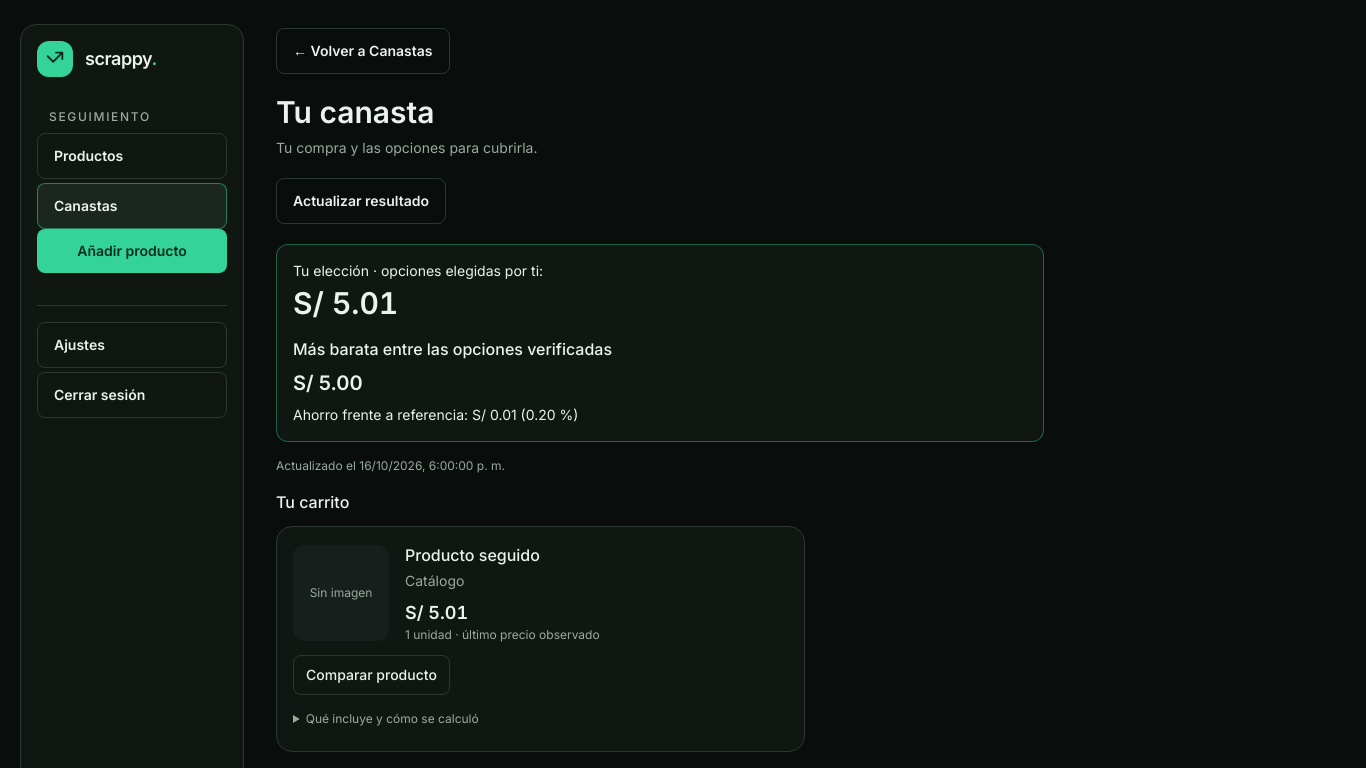
Test case: independent catalog › opens a notice basket directly and removes its destination when leaving the breakdown
Check: the heading "Tu canasta" is shown, box x1=276 y1=94 x2=434 y2=130
Check: the text "Ahorro frente a referencia: S/ 0.01 (0.20 %)" is shown, box x1=293 y1=406 x2=578 y2=423
Click the button "← Volver a Canastas" at (363, 51), box x1=276 y1=28 x2=450 y2=74
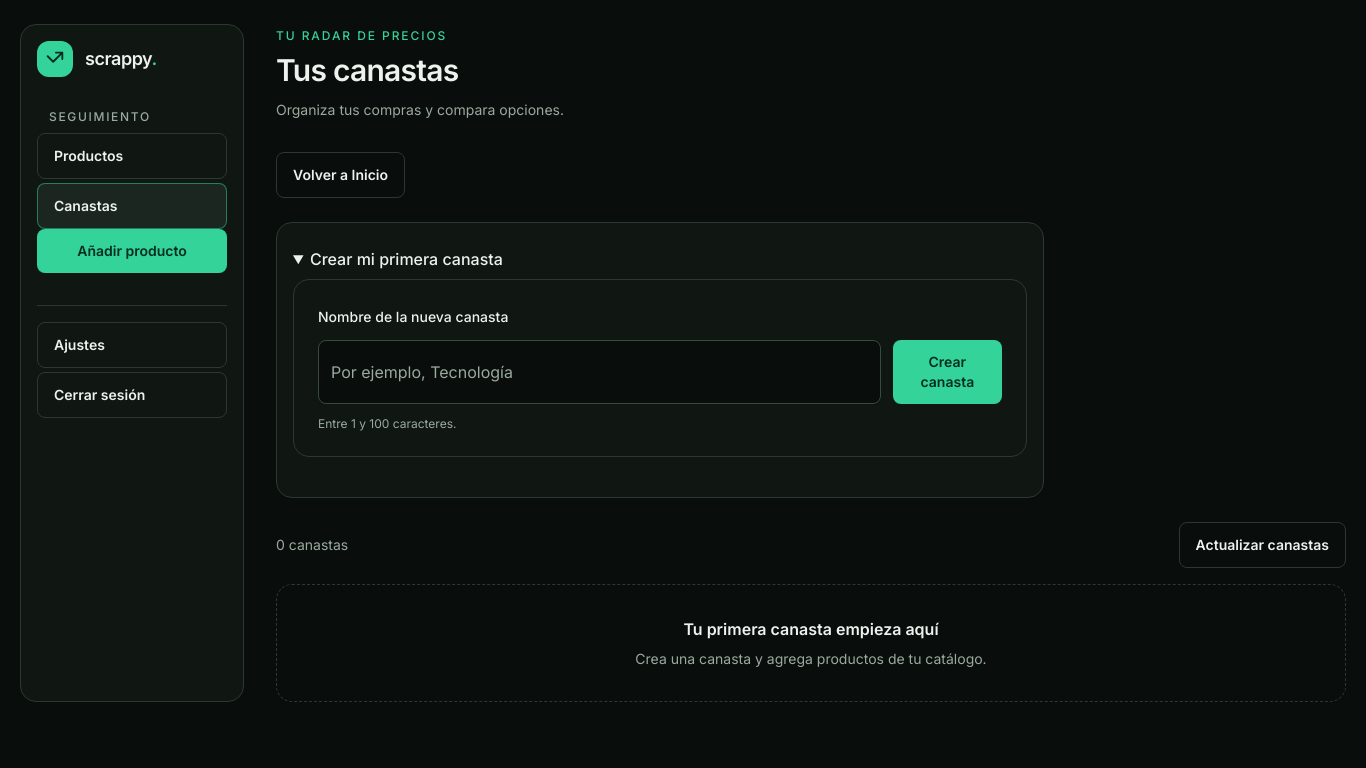
Check: the heading "Tus canastas" is shown, box x1=276 y1=52 x2=458 y2=88
